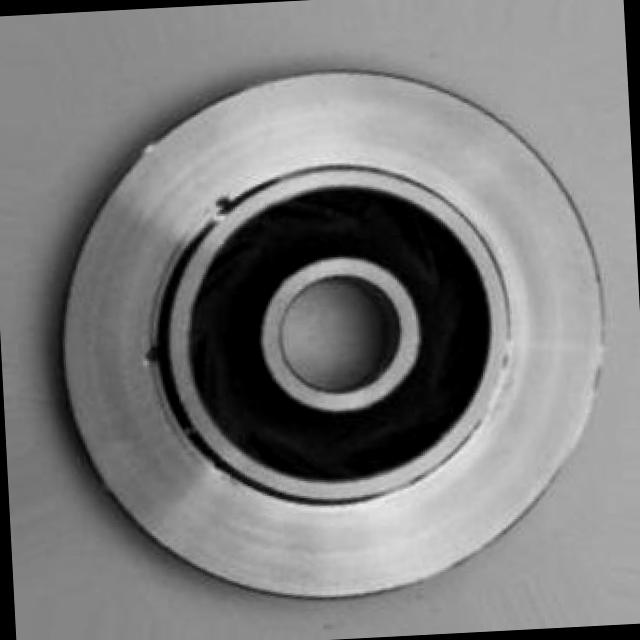Defect: (206, 194, 233, 217)
